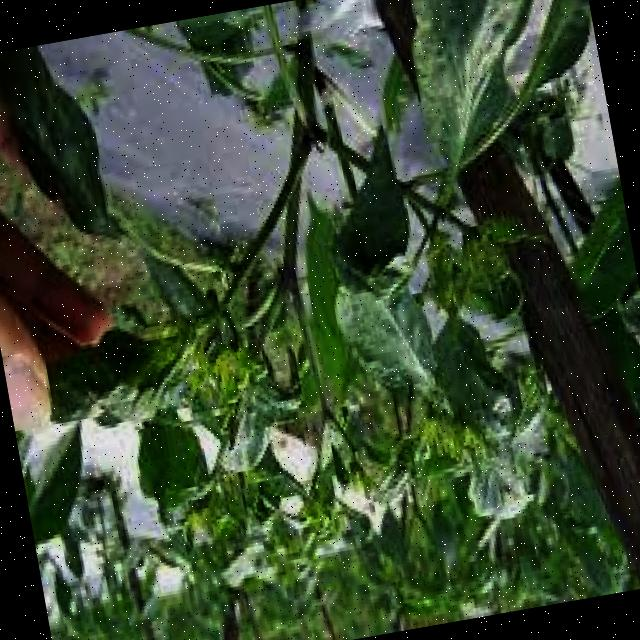leaf curl: (306, 241, 522, 474), (44, 284, 255, 469), (5, 28, 168, 258), (386, 0, 571, 175)
